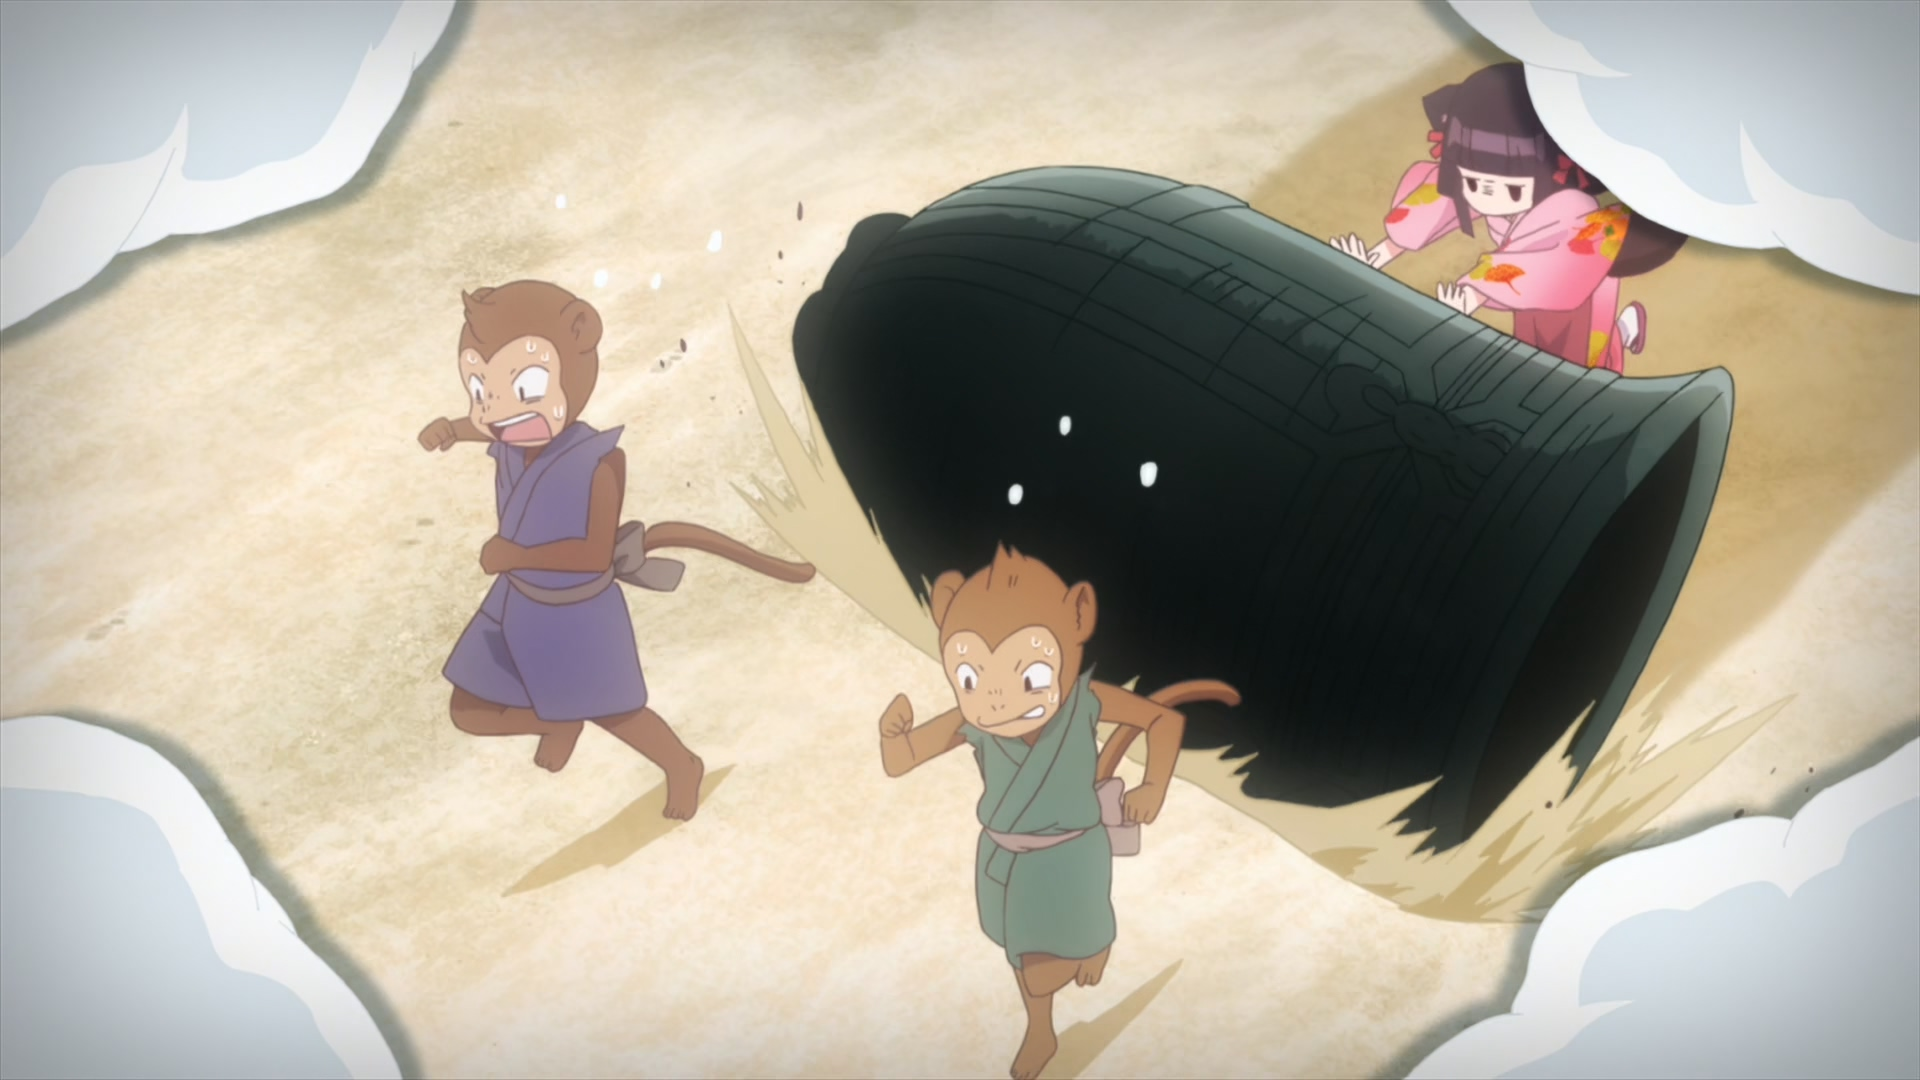其他: (418, 280, 816, 822), (878, 541, 1242, 1080)
樱: (1329, 63, 1685, 376)
